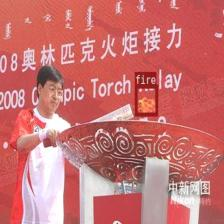fire: (134, 85, 158, 116)
